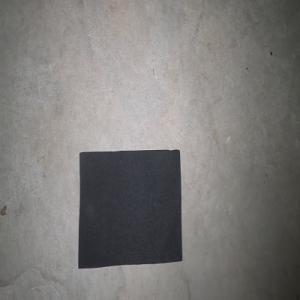PaintChip: (78, 149, 182, 269)
